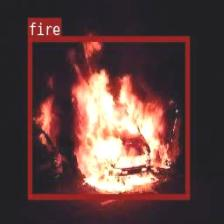fire: (27, 36, 189, 198)
